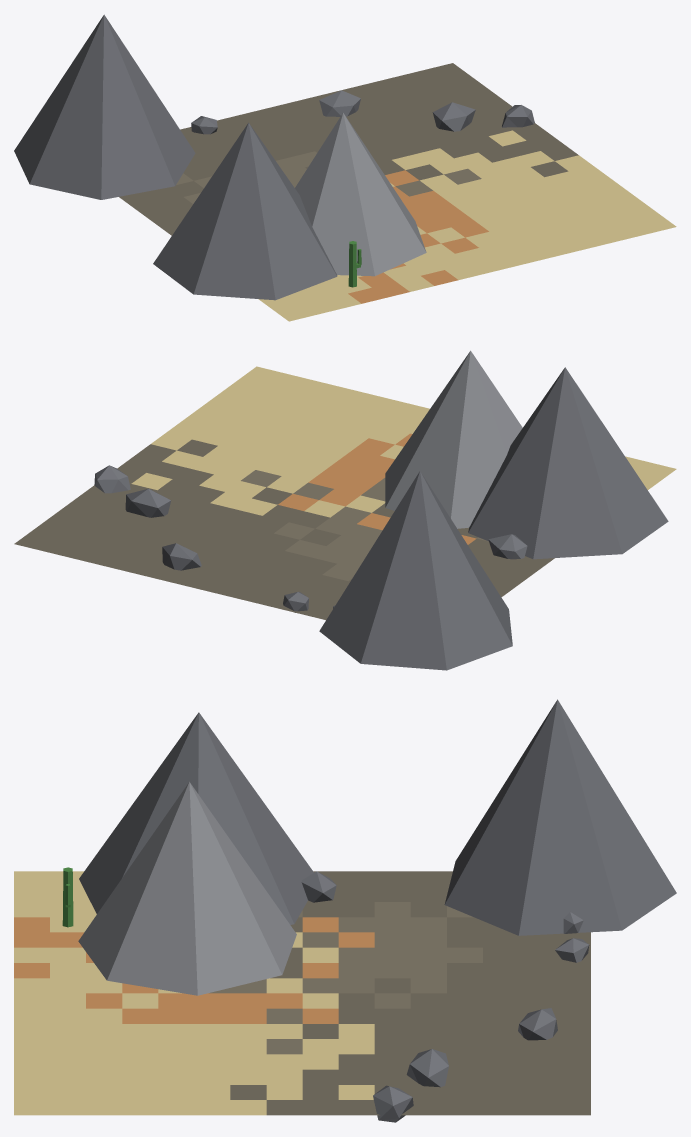
The model's file is chunk_11_20.glb.
3 views of the same model, one above another, from view 1: azimuth 30°, elevation 25°; view 2: azimuth 150°, elevation 25°; view 3: azimuth 270°, elevation 25° (orthographic). The views are drawn at different scales.
Parts seen in each view (by area): view 1: chunk_11_20; view 2: chunk_11_20; view 3: chunk_11_20.
Boxes of the visible parts, x1=… form: chunk_11_20: x1=14, y1=14, x2=676, y2=321; chunk_11_20: x1=14, y1=350, x2=676, y2=670; chunk_11_20: x1=14, y1=699, x2=676, y2=1122.
Bounding box in the file's own units: 18.31 × 6.21 × 18.38.
